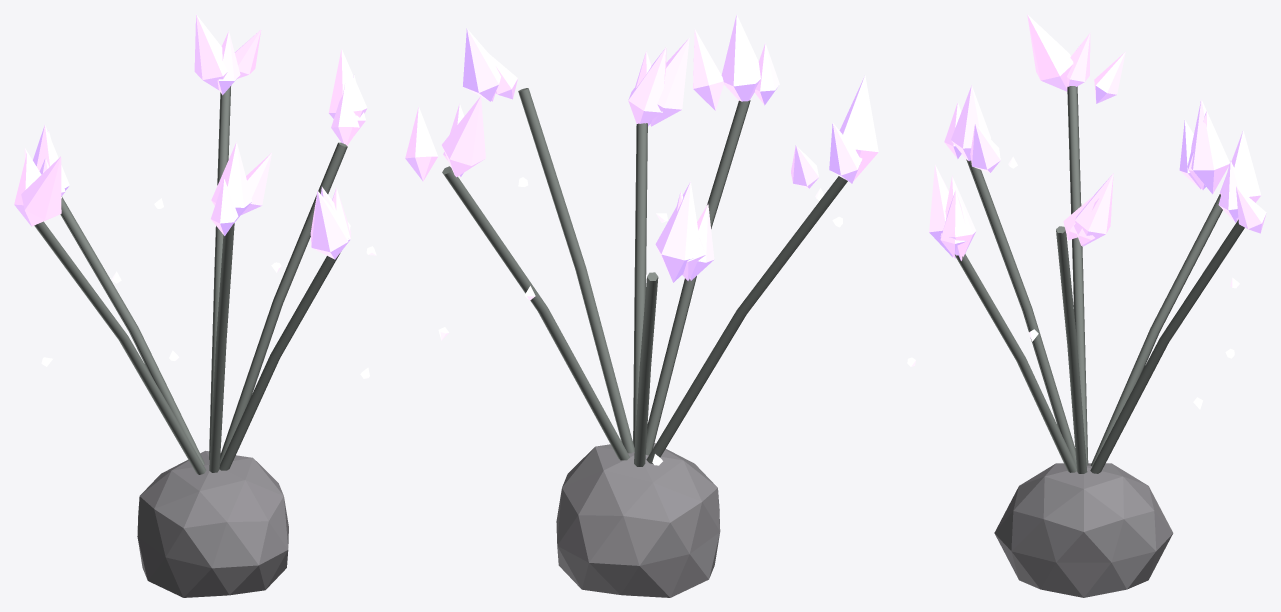
File: crystalsprout.glb
3 views of the same model, side by side, from view 1: azimuth 30°, elevation 25°; view 2: azimuth 150°, elevation 25°; view 3: azimuth 270°, elevation 25° (orthographic). The views are drawn at different scales.
Visible parts, largest first — view 1: Icosphere, CS_stem0, CS_stem3, CS_stem2, CS_stem4, CS_stem5, CS_stem1, CS_crys10, CS_crys17, CS_crys4, CS_crys13, CS_crys2 (+7 smaller); view 2: Icosphere, CS_stem0, CS_stem3, CS_stem1, CS_stem4, CS_stem5, CS_crys8, CS_stem2, CS_crys13, CS_crys4, CS_crys10, CS_crys2 (+8 smaller); view 3: Icosphere, CS_stem4, CS_stem3, CS_stem1, CS_stem2, CS_stem0, CS_stem5, CS_crys8, CS_crys10, CS_crys2, CS_crys13, CS_crys4 (+9 smaller).
Part boxes in pixels (bbox=[...]): Icosphere: bbox=[137, 450, 288, 597]; CS_stem0: bbox=[220, 142, 347, 464]; CS_stem3: bbox=[34, 221, 206, 474]; CS_stem2: bbox=[60, 196, 204, 464]; CS_stem4: bbox=[209, 223, 234, 472]; CS_stem5: bbox=[219, 253, 340, 470]; CS_stem1: bbox=[209, 86, 230, 459]; CS_crys10: bbox=[21, 156, 61, 226]; CS_crys17: bbox=[310, 190, 348, 259]; CS_crys4: bbox=[194, 14, 227, 89]; CS_crys13: bbox=[211, 141, 252, 222]; CS_crys2: bbox=[328, 49, 367, 118]; Icosphere: bbox=[556, 441, 720, 597]; CS_stem0: bbox=[518, 88, 634, 453]; CS_stem3: bbox=[646, 176, 847, 464]; CS_stem1: bbox=[442, 166, 629, 460]; CS_stem4: bbox=[645, 100, 750, 455]; CS_stem5: bbox=[633, 123, 647, 447]; CS_crys8: bbox=[655, 181, 699, 282]; CS_stem2: bbox=[634, 272, 658, 466]; CS_crys13: bbox=[721, 14, 760, 101]; CS_crys4: bbox=[441, 96, 485, 177]; CS_crys10: bbox=[839, 75, 878, 183]; CS_crys2: bbox=[463, 28, 500, 101]; Icosphere: bbox=[994, 463, 1173, 597]; CS_stem4: bbox=[966, 159, 1076, 465]; CS_stem3: bbox=[1067, 86, 1088, 465]; CS_stem1: bbox=[1090, 219, 1244, 473]; CS_stem2: bbox=[1090, 194, 1222, 466]; CS_stem0: bbox=[1056, 226, 1087, 473]; CS_stem5: bbox=[955, 254, 1076, 472]; CS_crys8: bbox=[1191, 99, 1229, 194]; CS_crys10: bbox=[1027, 14, 1073, 91]; CS_crys2: bbox=[1074, 173, 1113, 246]; CS_crys13: bbox=[951, 85, 990, 160]; CS_crys4: bbox=[1220, 130, 1261, 220].
Bounding box in the file's own units: 0.4745 × 0.6127 × 0.4162.
